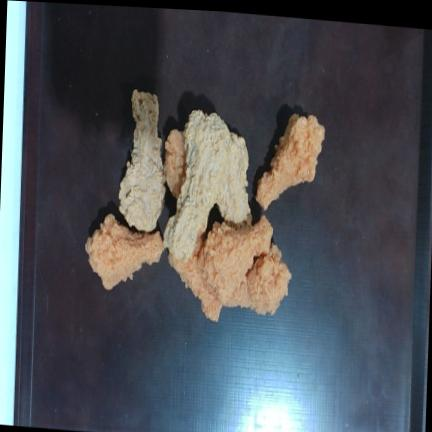chicken: (164, 110, 231, 262), (119, 90, 165, 232), (257, 114, 324, 210), (203, 217, 272, 305), (86, 214, 163, 290), (225, 244, 291, 314)
